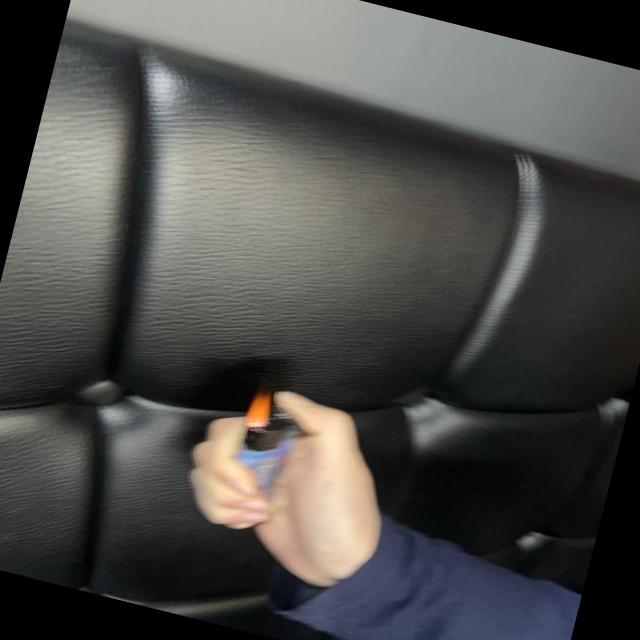Fire: (243, 388, 277, 430)
